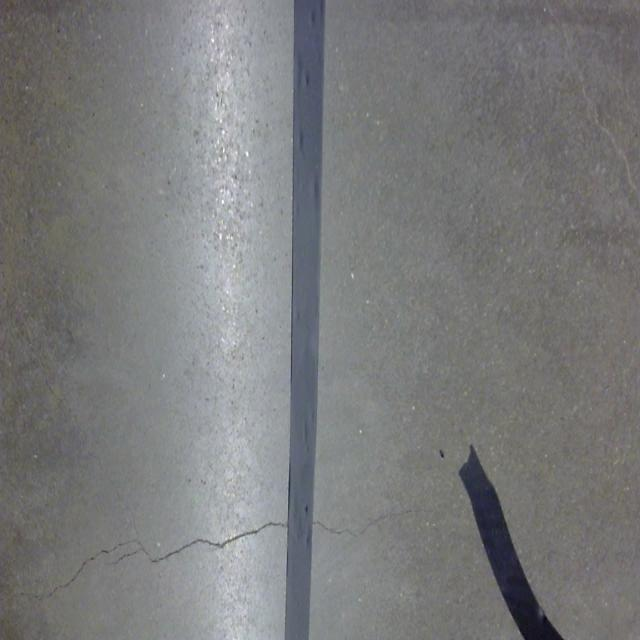tape: (264, 0, 340, 640), (446, 408, 576, 640)
